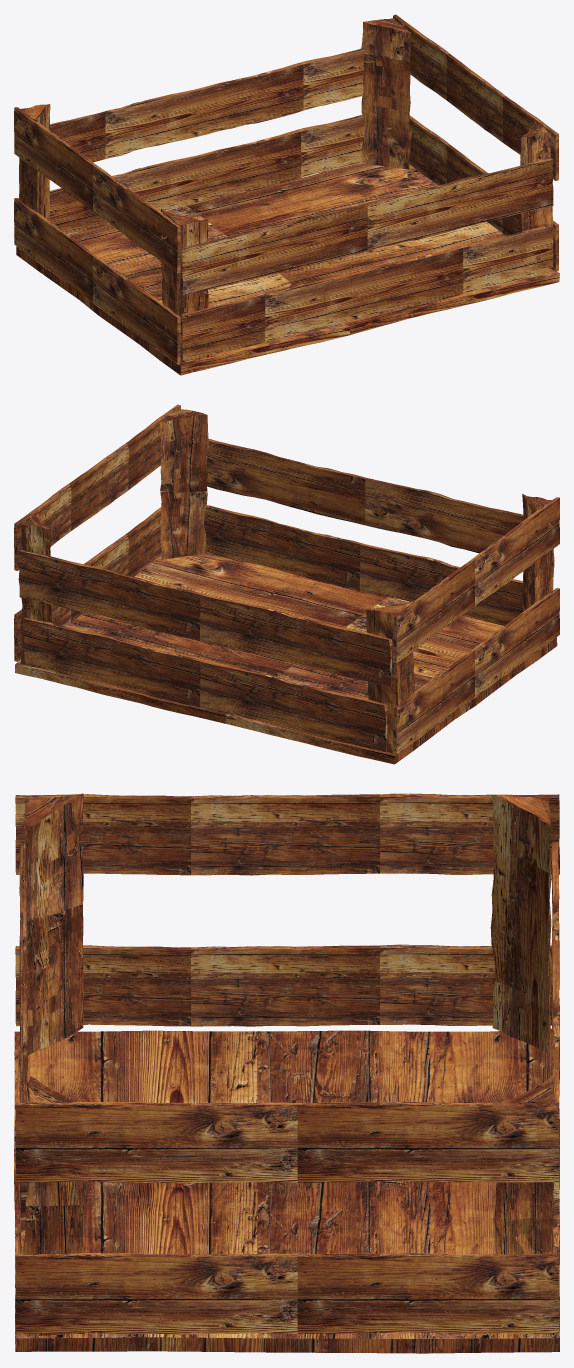
File: Container.fbx
3 views of the same model, one above another, from view 1: azimuth 30°, elevation 25°; view 2: azimuth 150°, elevation 25°; view 3: azimuth 270°, elevation 25° (orthographic). The views are drawn at different scales.
Visible parts, largest first — view 1: Box09, Box18, Box12, Box13, Box14, Line01, Box20, Box21, Box22, Box23; view 2: Box09, Box13, Box14, Box18, Line01, Box12, Box20, Box21, Box22, Box23; view 3: Box09, Box22, Box23, Line01, Box20, Box21, Box18, Box13.
Boxes of the visible parts, bbox=[...] form: Box09: bbox=[16, 162, 559, 375]; Box18: bbox=[180, 158, 553, 295]; Box12: bbox=[180, 225, 553, 362]; Box13: bbox=[50, 48, 364, 162]; Box14: bbox=[49, 115, 364, 233]; Line01: bbox=[18, 18, 554, 364]; Box20: bbox=[14, 107, 180, 273]; Box21: bbox=[14, 198, 180, 363]; Box22: bbox=[393, 14, 558, 180]; Box23: bbox=[408, 115, 558, 271]; Box09: bbox=[15, 552, 557, 764]; Box13: bbox=[18, 549, 392, 686]; Box14: bbox=[22, 617, 387, 751]; Box18: bbox=[206, 438, 523, 553]; Line01: bbox=[20, 409, 554, 754]; Box12: bbox=[204, 505, 523, 625]; Box20: bbox=[393, 497, 559, 663]; Box21: bbox=[393, 588, 559, 753]; Box22: bbox=[14, 404, 180, 570]; Box23: bbox=[14, 507, 161, 661]; Box09: bbox=[14, 1028, 559, 1353]; Box22: bbox=[15, 1102, 559, 1183]; Box23: bbox=[15, 1253, 559, 1334]; Line01: bbox=[22, 793, 554, 1336]; Box20: bbox=[15, 793, 559, 875]; Box21: bbox=[15, 944, 559, 1026]; Box18: bbox=[19, 842, 27, 1221]; Box13: bbox=[551, 842, 559, 1221].
Size of the model in its own units: 129 by 48.59 by 94.49.
Materials: 1 (1 with a texture image).
